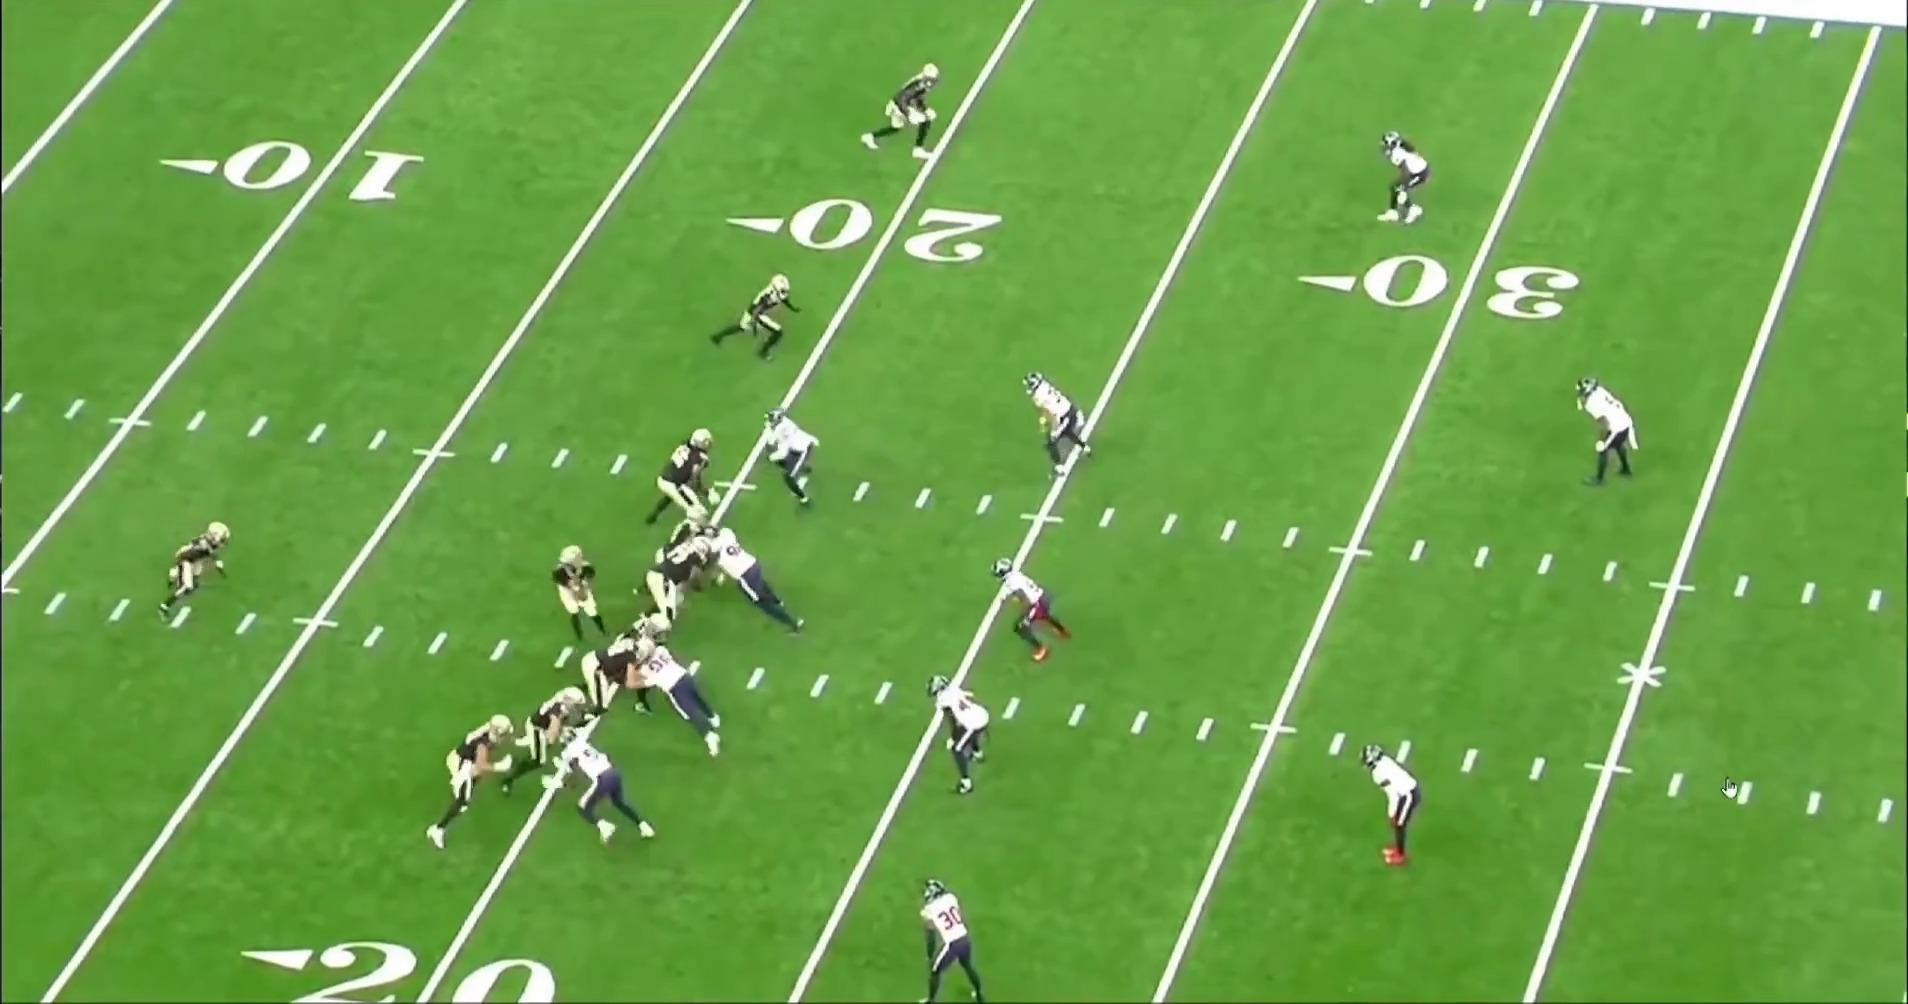player: (419, 707, 514, 850), (562, 728, 663, 848), (702, 526, 804, 639), (638, 642, 733, 763), (699, 270, 797, 369), (909, 878, 986, 1004), (625, 526, 711, 634), (1358, 740, 1428, 871), (853, 59, 940, 164), (991, 555, 1073, 666), (1018, 369, 1096, 485), (930, 670, 1000, 799), (653, 424, 731, 533), (1571, 376, 1641, 497), (601, 611, 679, 719), (631, 500, 716, 599), (511, 682, 592, 783), (161, 519, 238, 621), (578, 626, 654, 727), (749, 405, 819, 510), (542, 545, 611, 648), (1381, 123, 1439, 226)
